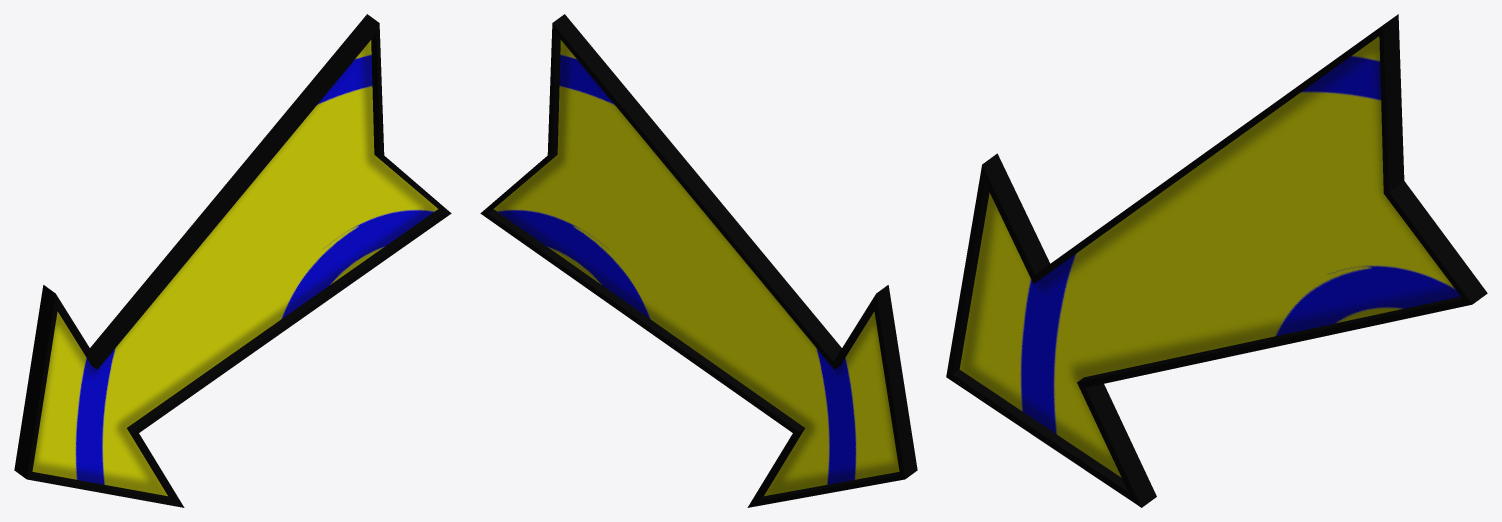
Rendered from MOD_Arrow5.FBX.
3 views of the same model, side by side, from view 1: azimuth 30°, elevation 25°; view 2: azimuth 150°, elevation 25°; view 3: azimuth 330°, elevation 25° (orthographic). The views are drawn at different scales.
Visible parts, largest first — view 1: MOD_Arrow5; view 2: MOD_Arrow5; view 3: MOD_Arrow5.
Part boxes in pixels (x1,y1,x2,y2): MOD_Arrow5: [14, 14, 451, 507]; MOD_Arrow5: [480, 14, 917, 507]; MOD_Arrow5: [946, 14, 1487, 507].
Bounding box in the file's own units: 82.97 × 81.6 × 4.19.
1 material, 1 textured.
